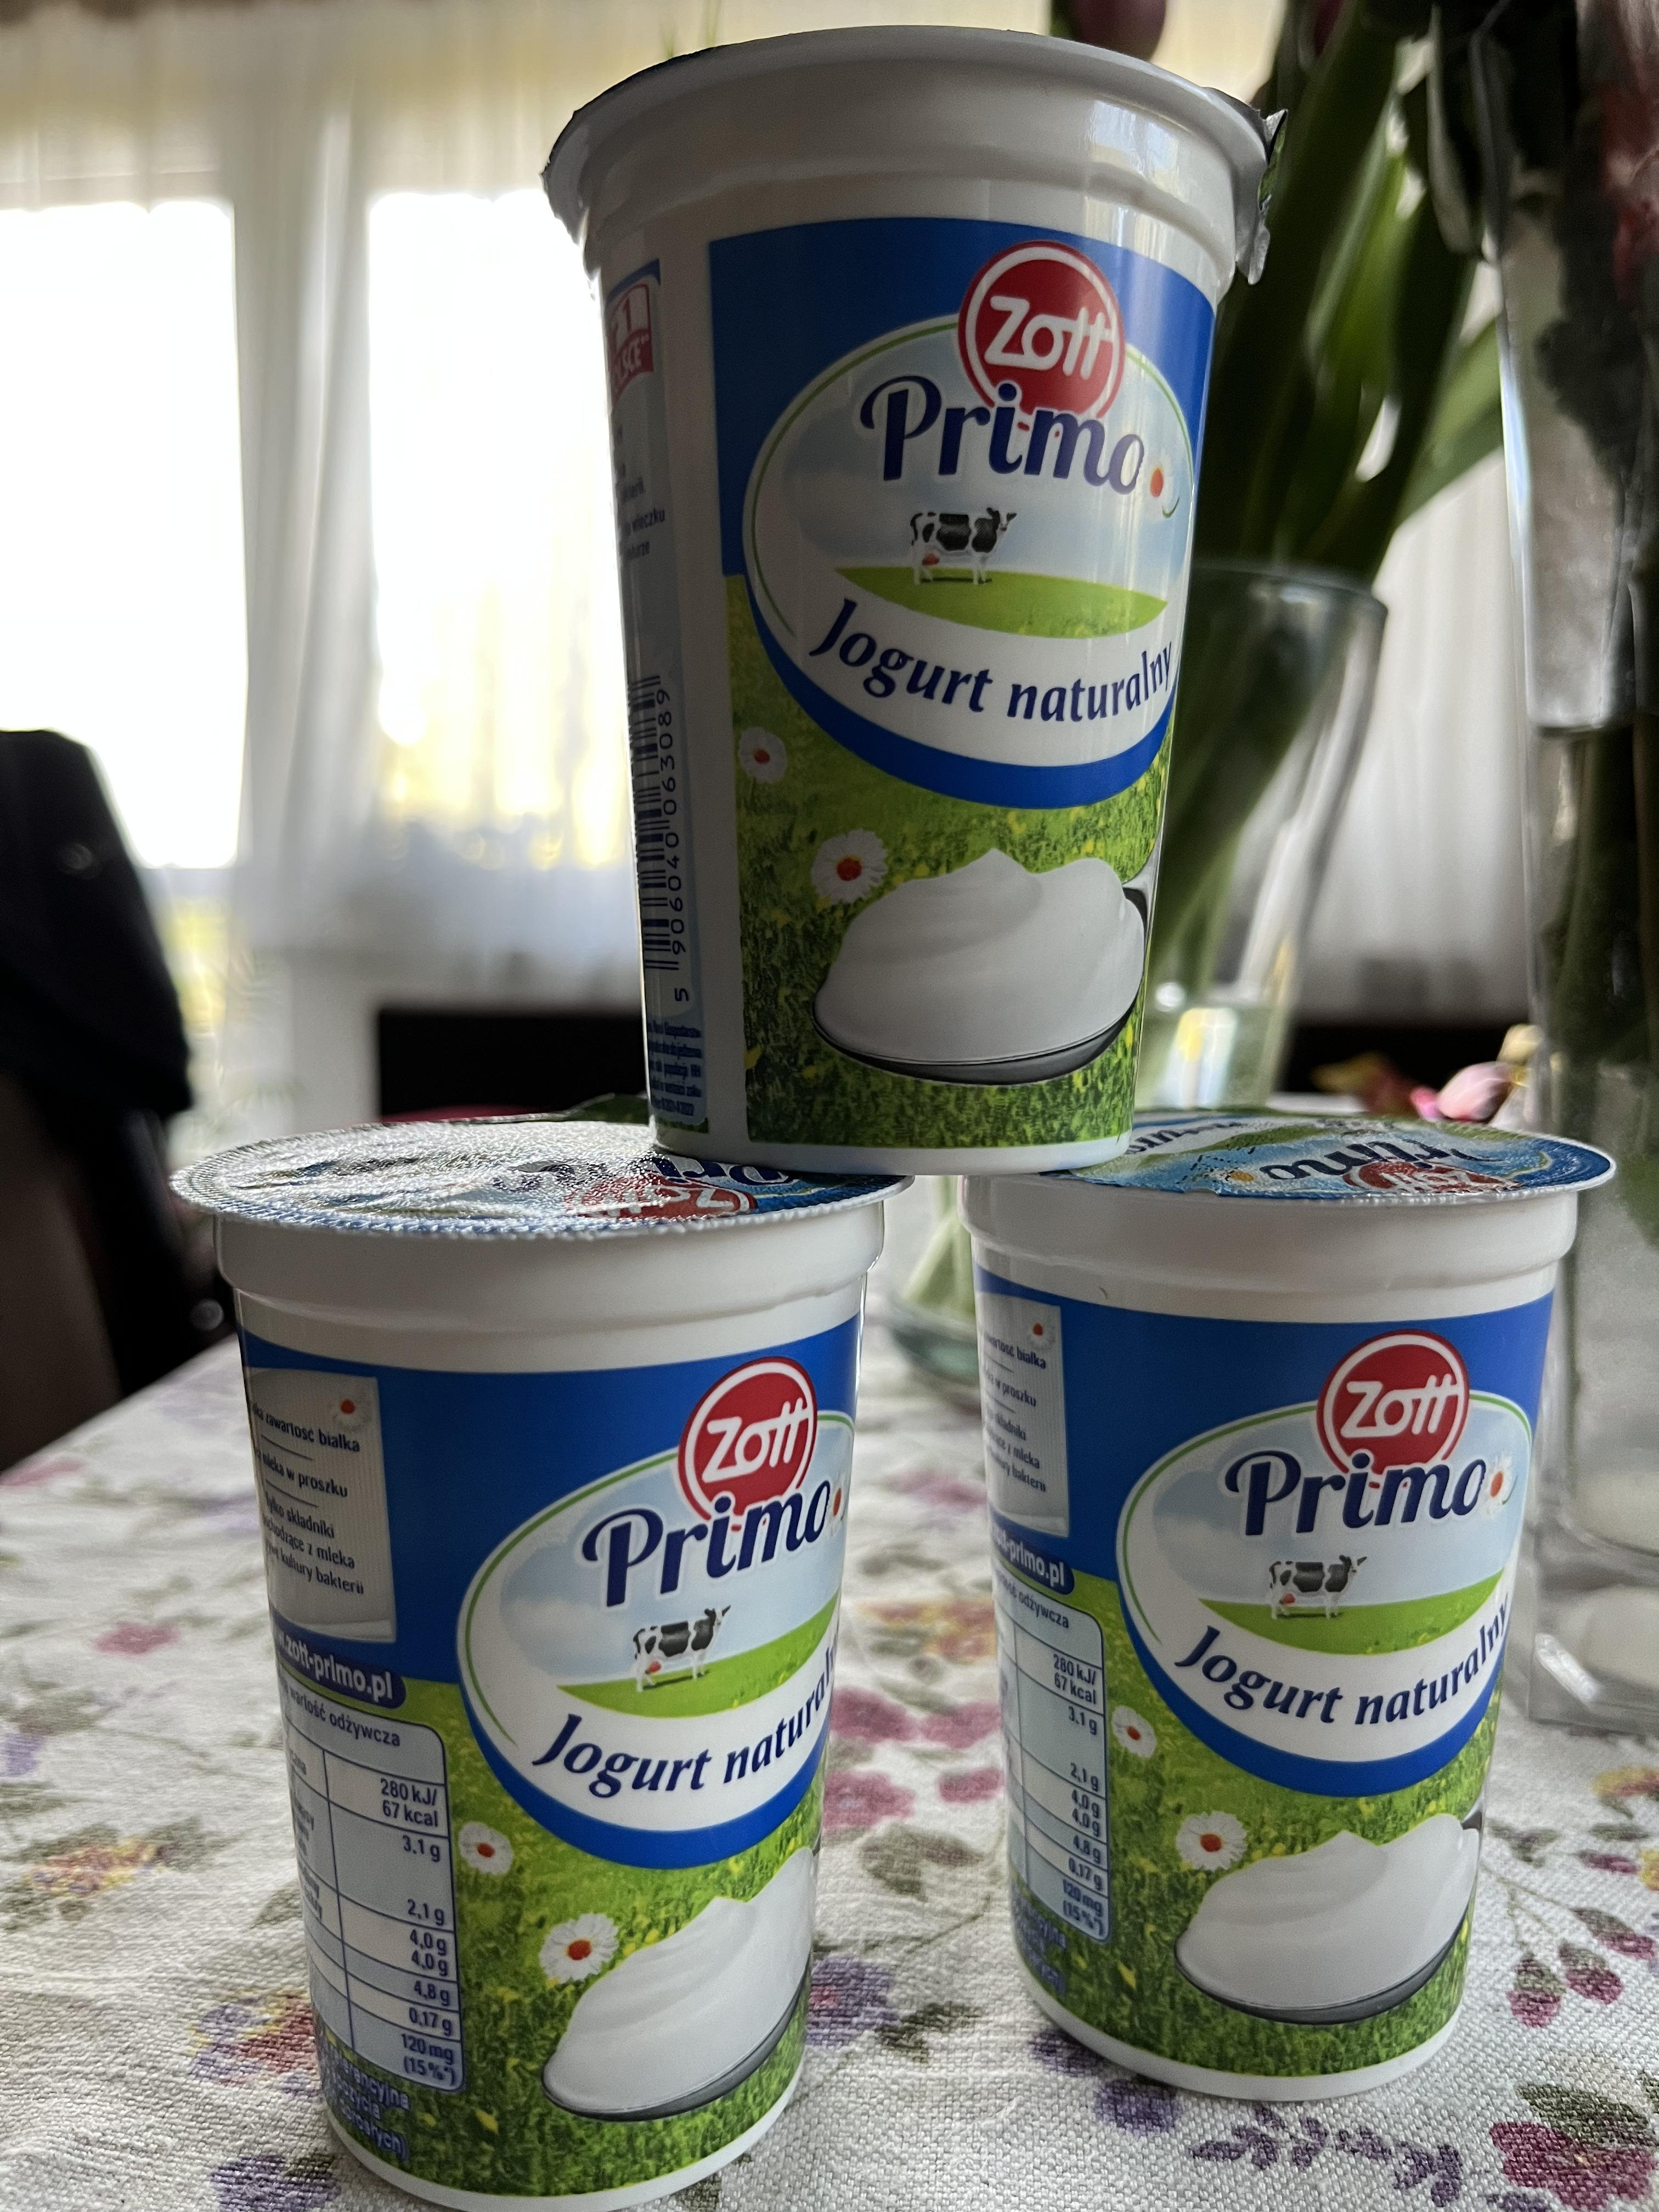Yogurt: (629, 70, 1208, 1162), (265, 1144, 856, 2188), (1002, 1160, 1506, 2080)
